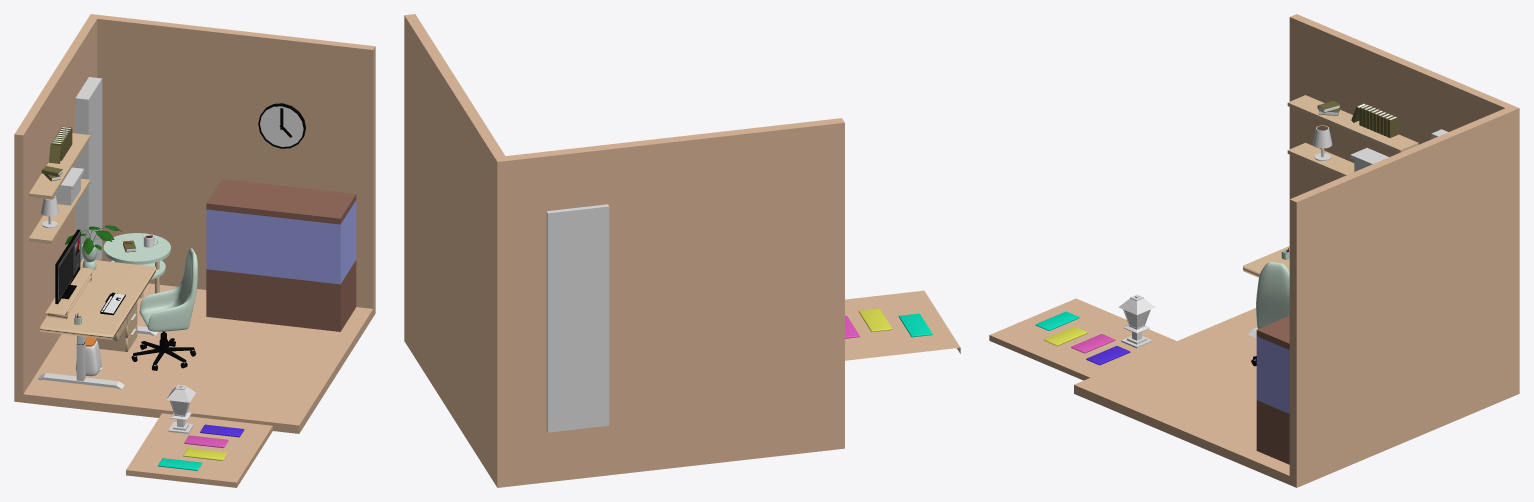
Rendered from room2.glb.
The picture shows the model from 3 angles, left to right: view 1: azimuth 30°, elevation 25°; view 2: azimuth 150°, elevation 25°; view 3: azimuth 270°, elevation 25°; orthographic projection. The views are drawn at different scales.
Visible parts, largest first — view 1: Wall, Base, Glas, FloorNew, TableTop, Cutout.001, Chair, Clock, PlateUp, Shelf.001, Shelf, Lamp (+13 smaller); view 2: Wall, Cutout.001, FloorNew; view 3: Wall, FloorNew, Base, Glas, Chair, Shelf.001, Lamp, Shelf, Book.
Boxes of the visible parts, x1,y1,x2,y2 form: Wall: (14,14,375,433); Base: (206,179,356,331); Glas: (206,200,356,284); FloorNew: (126,413,272,487); TableTop: (40,259,155,339); Cutout.001: (75,77,102,262); Chair: (139,248,197,331); Clock: (258,103,305,148); PlateUp: (103,233,170,264); Shelf.001: (29,133,90,199); Shelf: (29,178,90,243); Lamp: (166,385,195,433); Wall: (404,14,844,487); Cutout.001: (546,204,609,432); FloorNew: (845,290,960,360); Wall: (1074,14,1519,487); FloorNew: (989,298,1176,380); Base: (1256,316,1289,464); Glas: (1256,336,1289,413); Chair: (1256,262,1289,328); Shelf.001: (1287,95,1418,152); Lamp: (1118,294,1155,348); Shelf: (1287,142,1354,176); Book: (1359,104,1398,137).
Size of the model in its own units: 30.43 by 21.53 by 36.2.
Materials: 30 (1 with a texture image).
